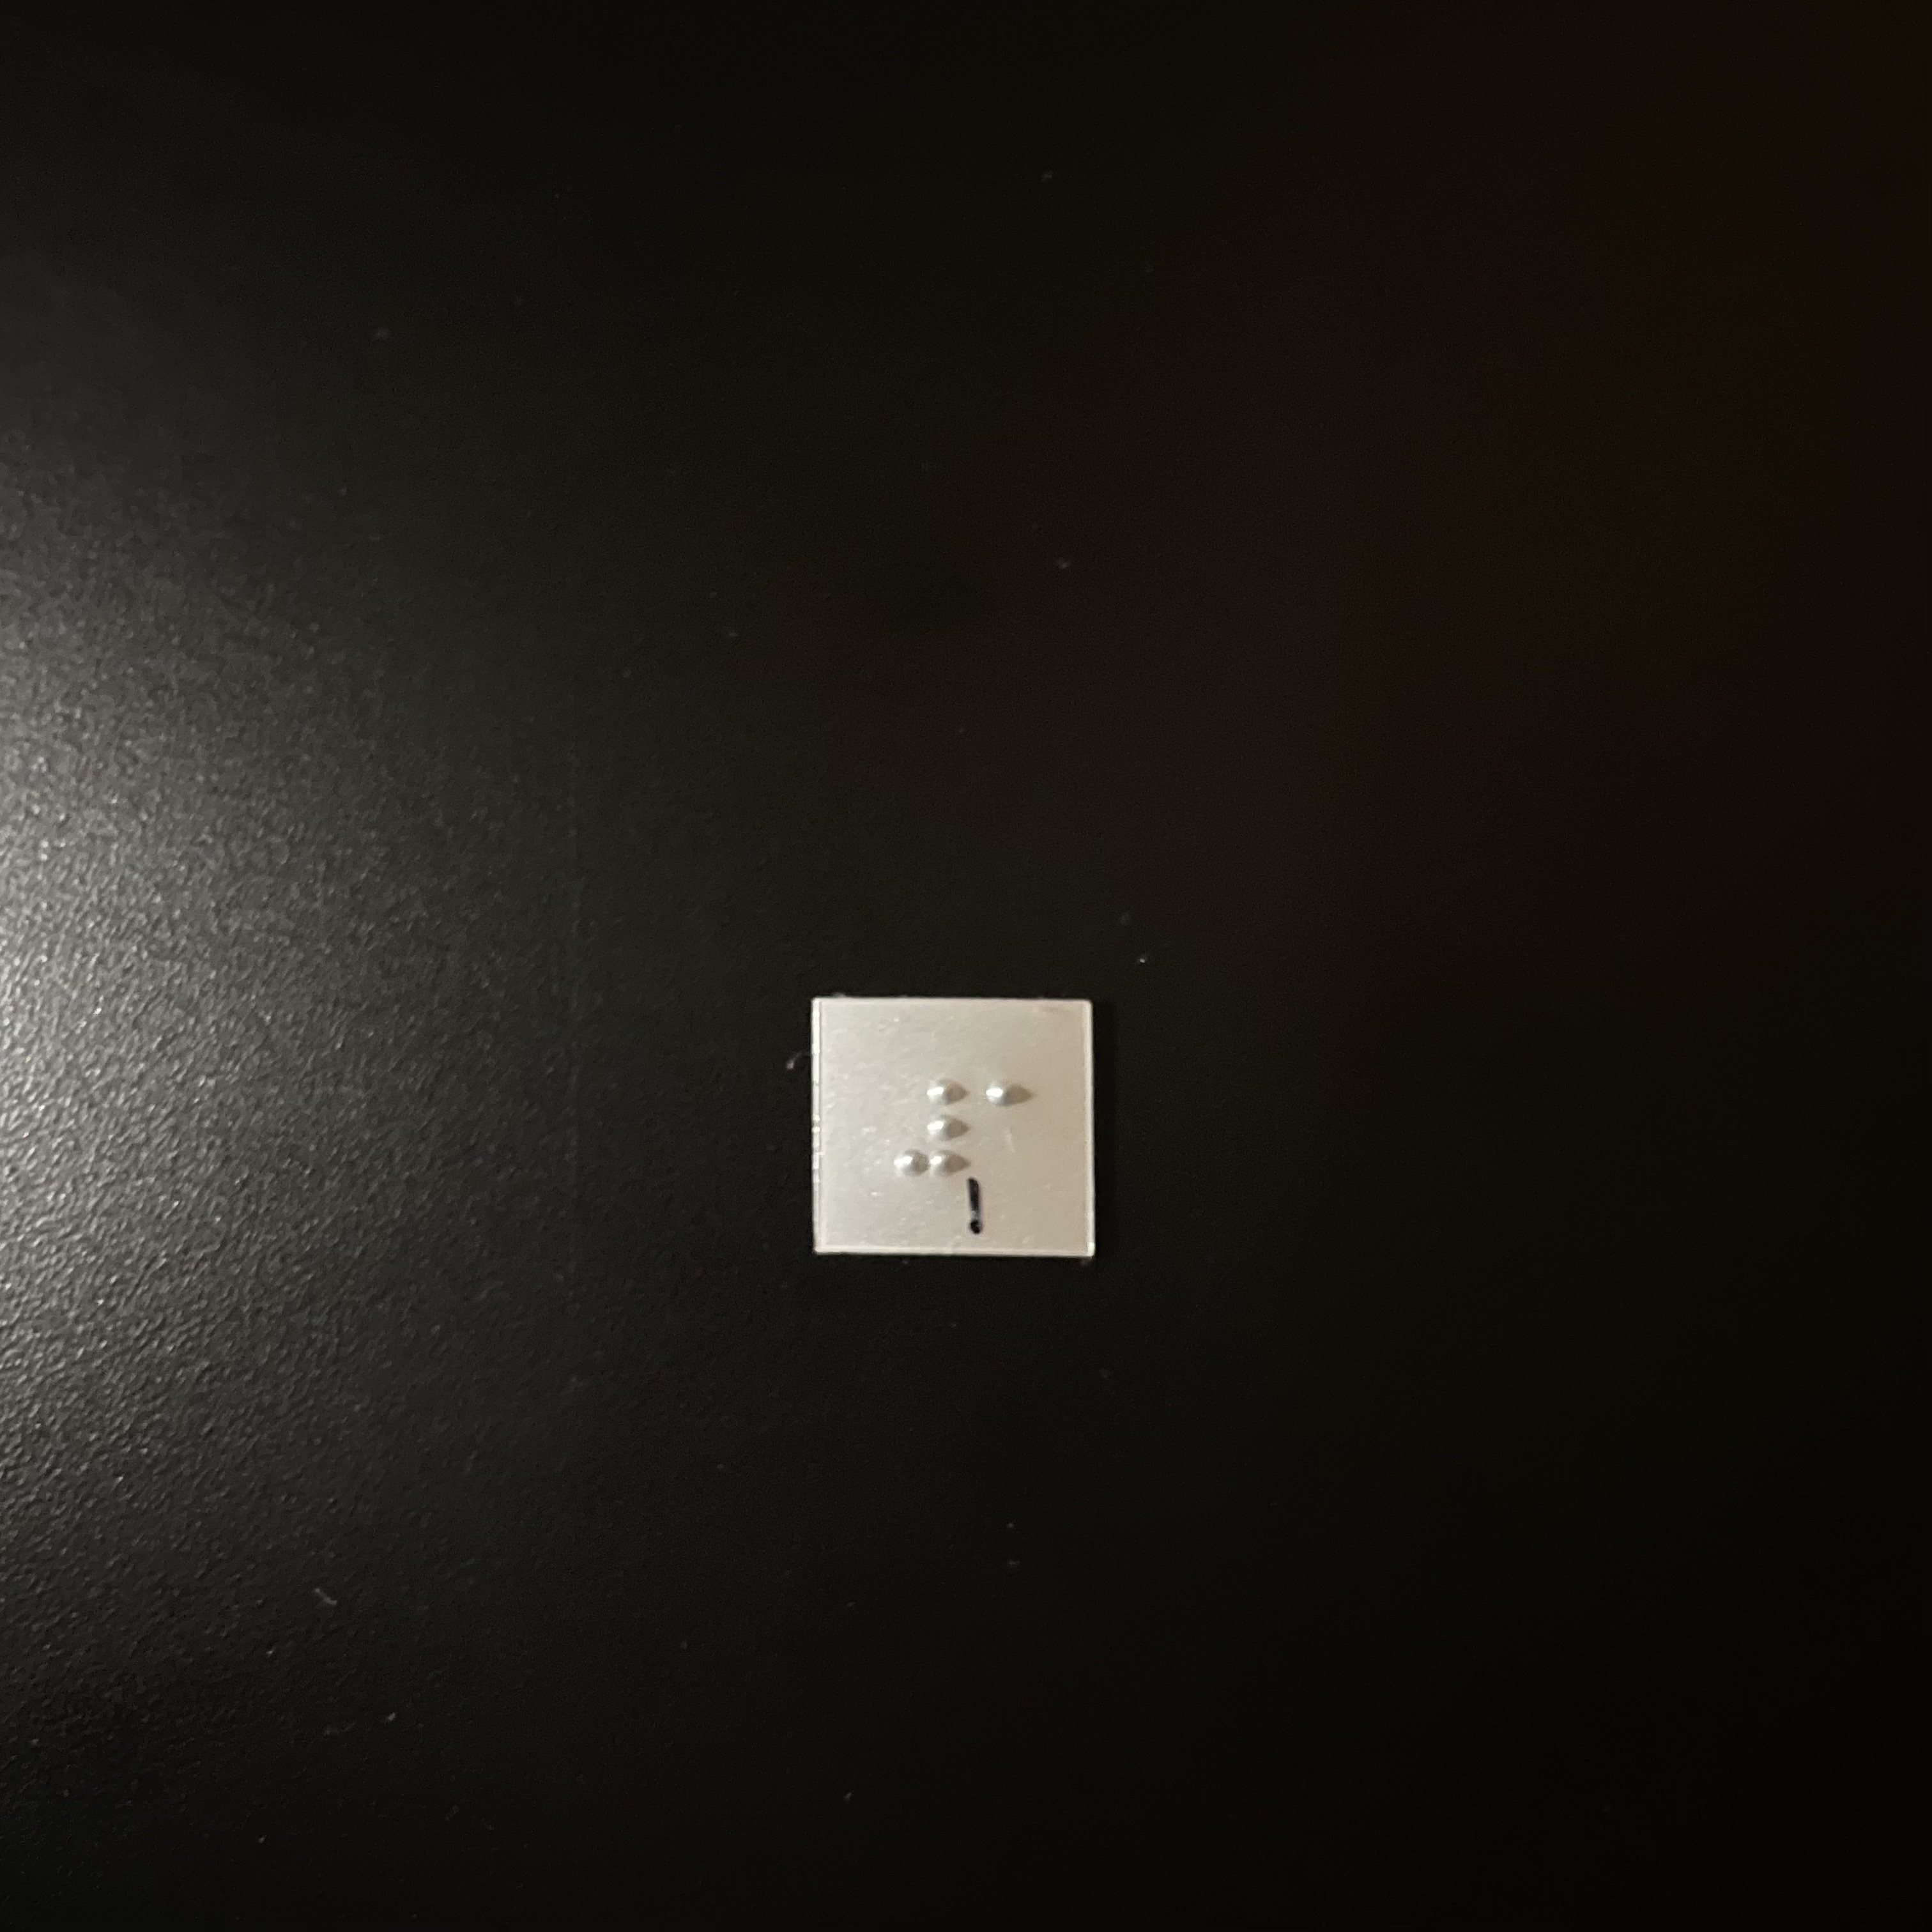#: (880, 1071, 970, 1183)
a: (981, 1068, 1052, 1183)
